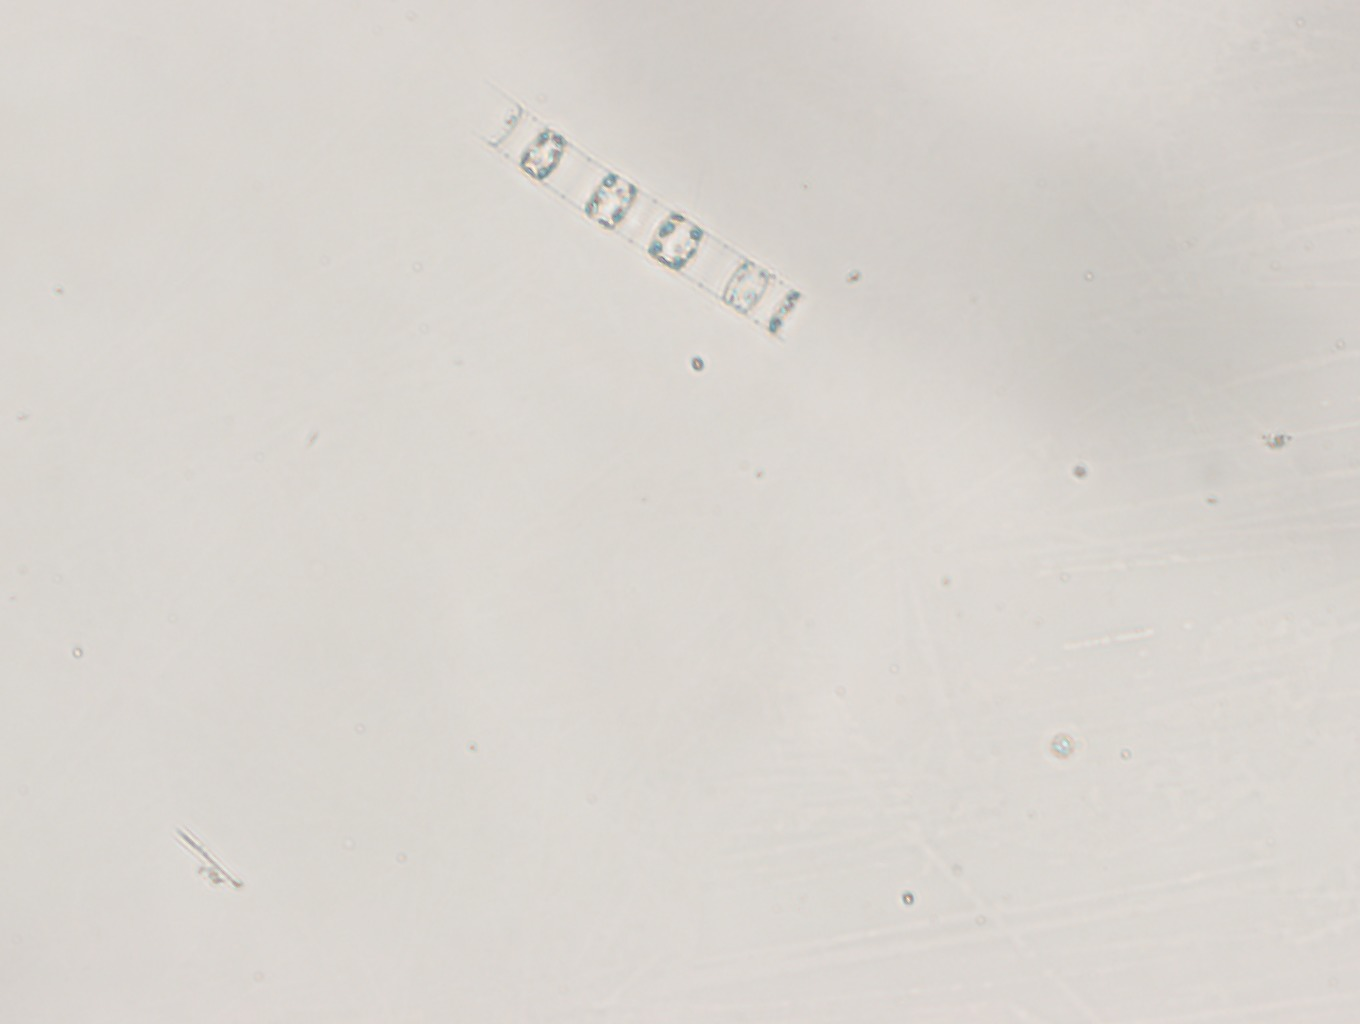skeletonema: (461, 81, 835, 357)
